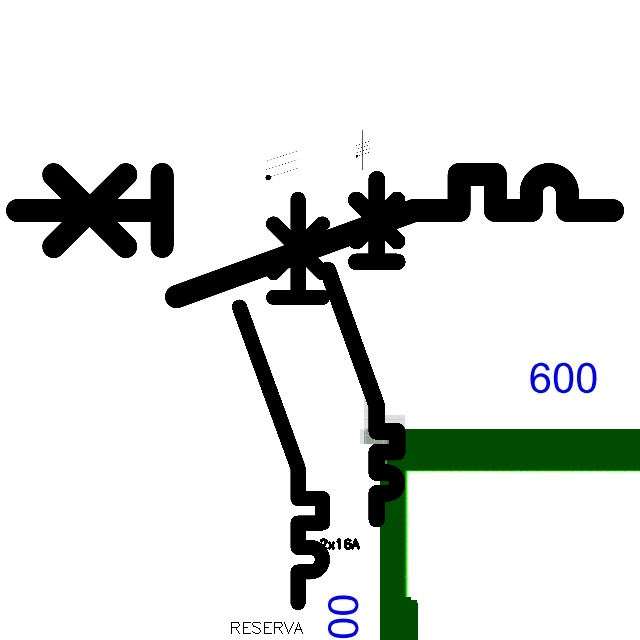interruptor_termomagnetico: (2, 159, 628, 312), (229, 188, 333, 612), (319, 170, 406, 527)
